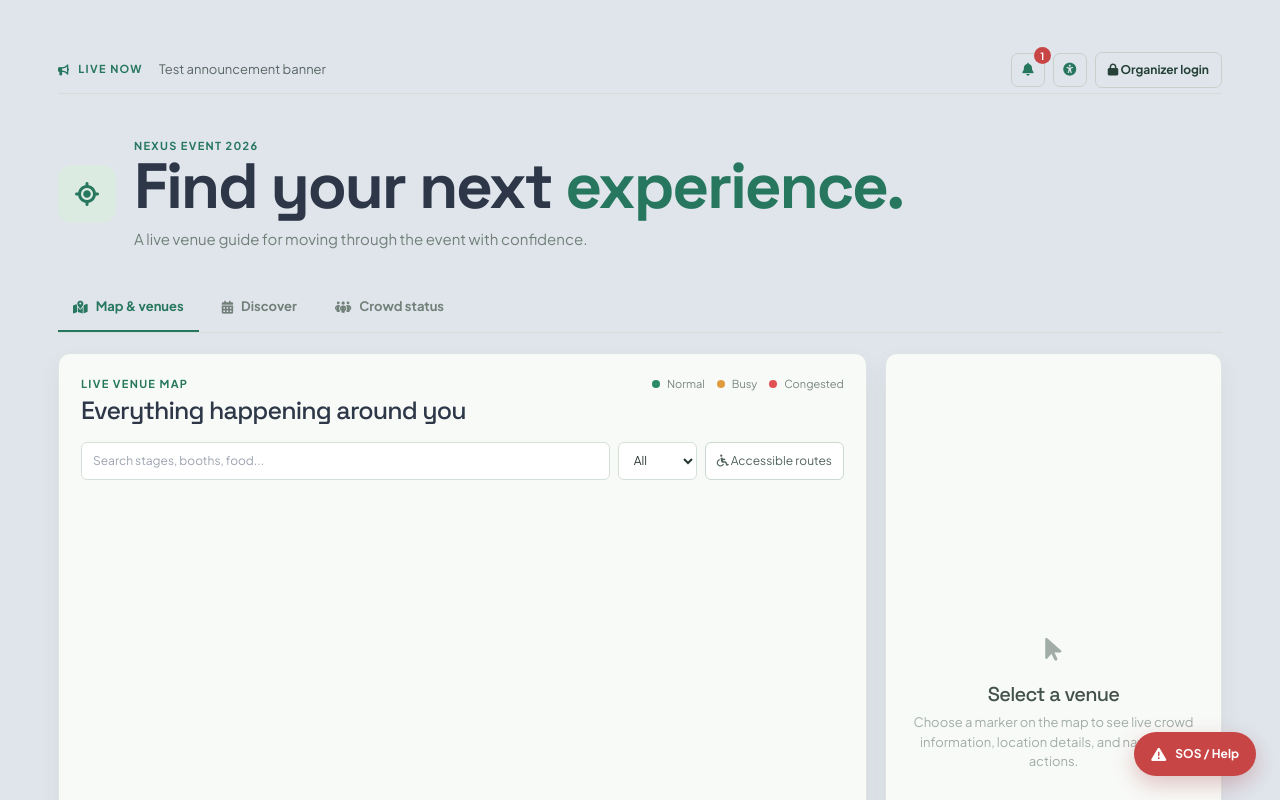
Test: App › opens the SOS modal as an accessible dialog and closes it with Escape
expect the text "Test announcement banner" is shown: met, box [159, 61, 326, 77]
Click the button with aria-label "Open emergency and SOS support": coordinates (1195, 754) [1134, 732, 1256, 776]
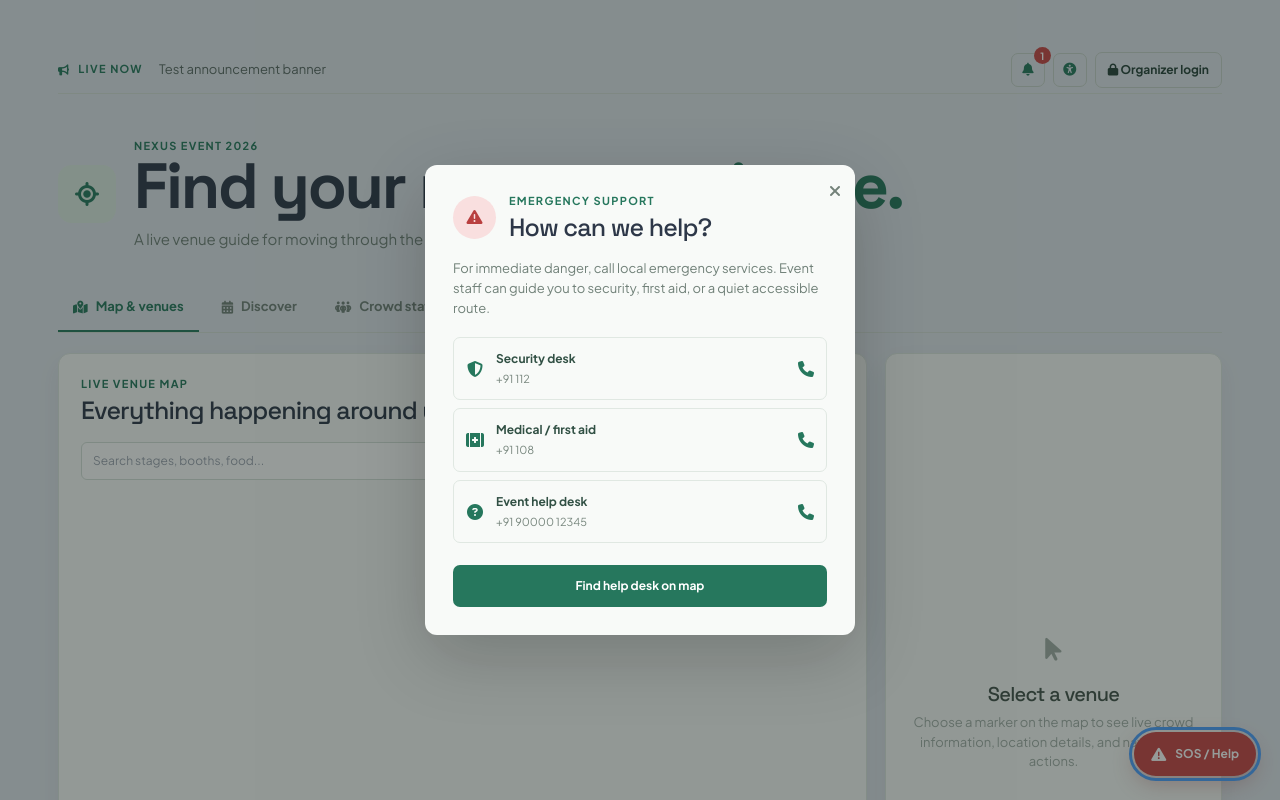
expect the dialog "EMERGENCY SUPPORT" is shown: met, box [425, 164, 855, 635]
Press Escape
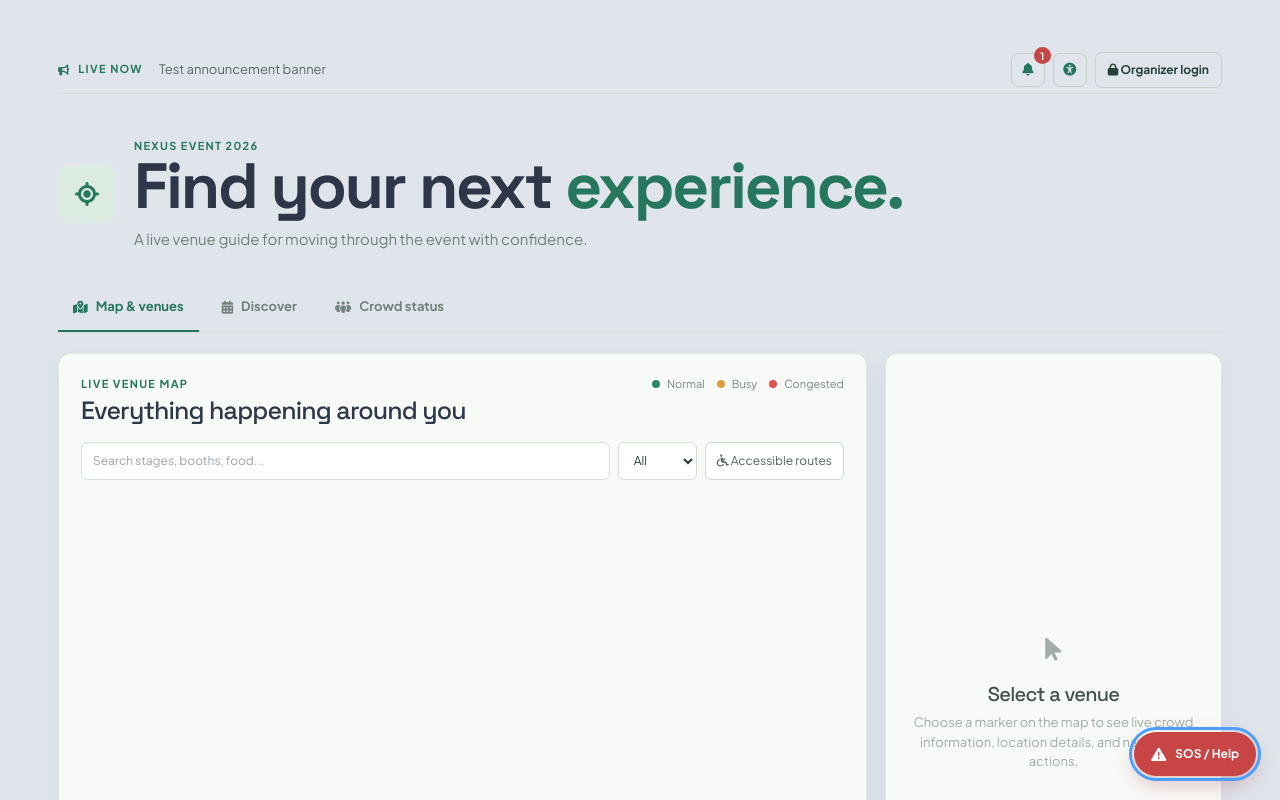
expect the text "EMERGENCY SUPPORT" is gone: met
